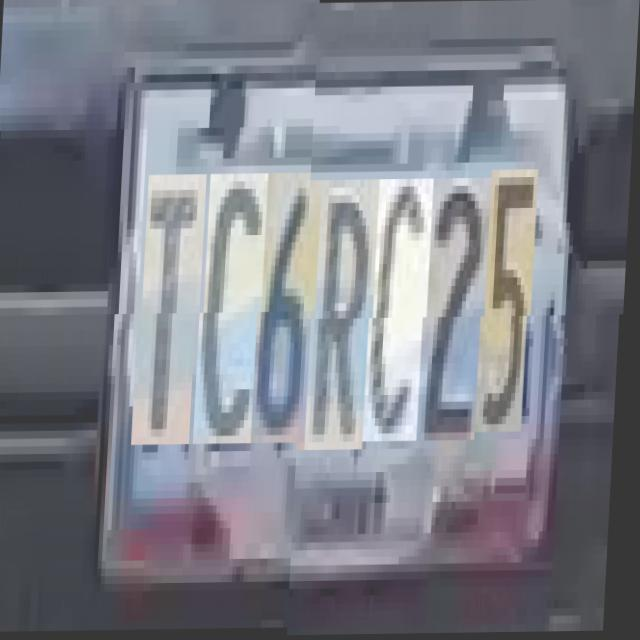2: (425, 179, 494, 442)
5: (484, 171, 540, 434)
6: (259, 181, 324, 452)
C: (201, 182, 270, 452), (371, 180, 436, 442)
R: (313, 180, 382, 452)
T: (140, 182, 208, 454)
